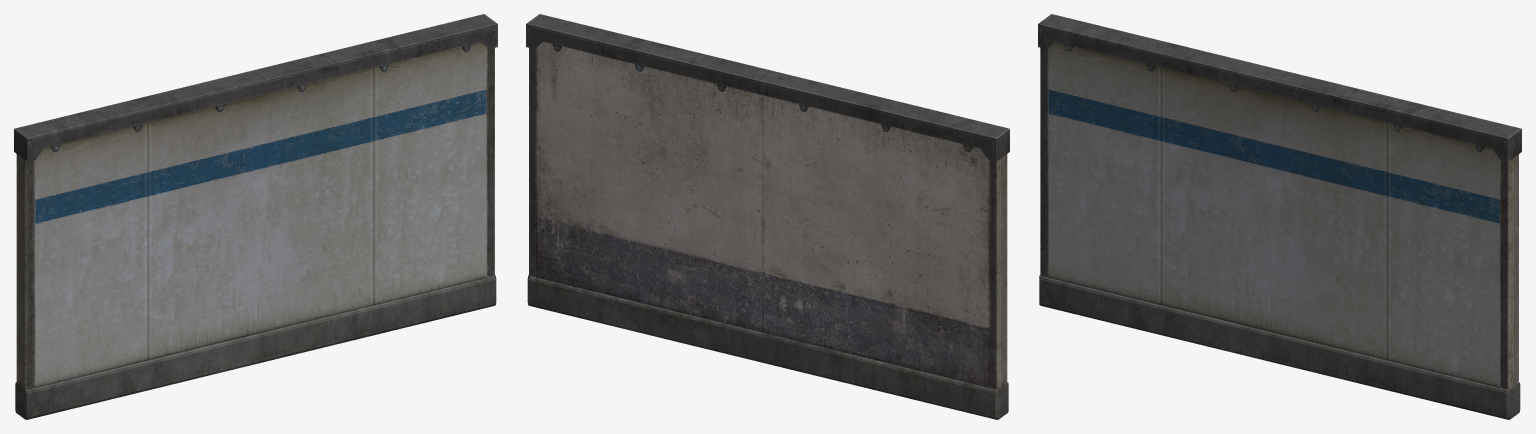
Rendered from MurInt.fbx.
3 views of the same model, side by side, from view 1: azimuth 30°, elevation 25°; view 2: azimuth 150°, elevation 25°; view 3: azimuth 330°, elevation 25° (orthographic).
Parts seen in each view (by area): view 1: wall_inner_004; view 2: wall_inner_004; view 3: wall_inner_004.
Boxes of the visible parts, <box> form: wall_inner_004: <box>14,14,497,419</box>; wall_inner_004: <box>526,14,1009,419</box>; wall_inner_004: <box>1038,14,1521,419</box>.
Bounding box in the file's own units: 403 × 232 × 20.26.
